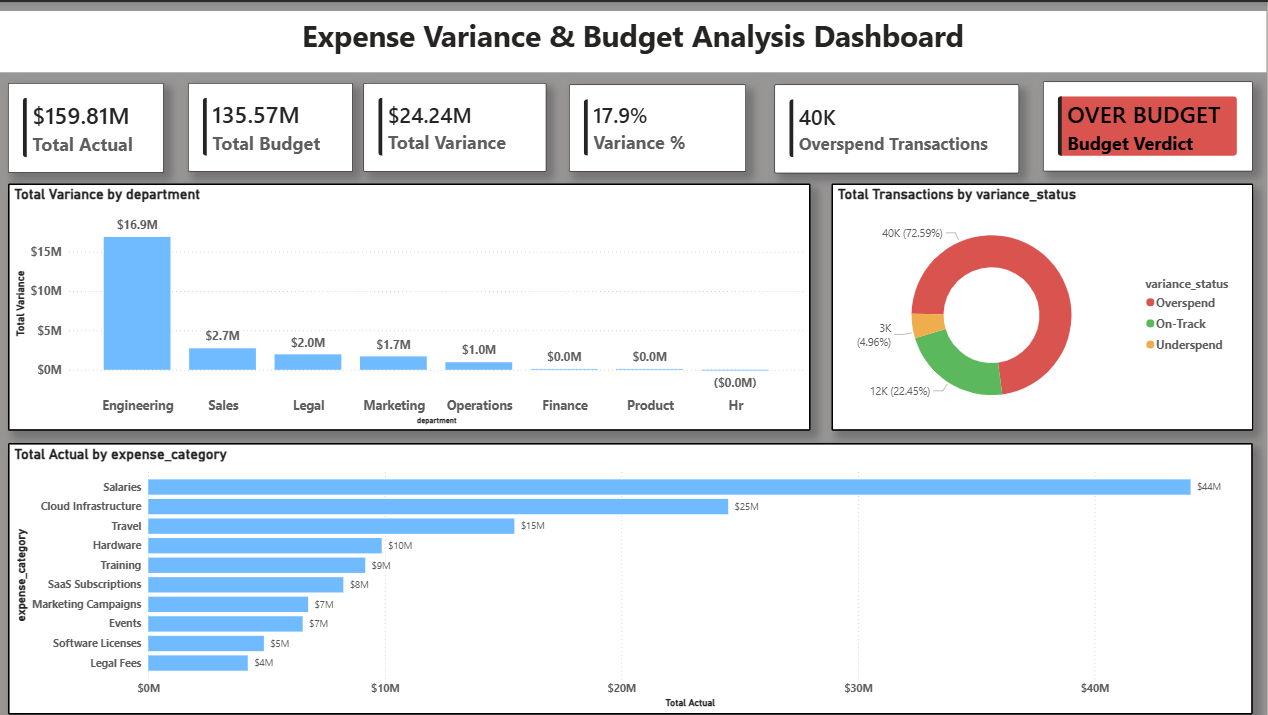

What the dashboard file says about the page in this screenshot:
{"tool":"powerbi","page":{"name":"Page 1","canvas":[1600,900],"ordinal":0},"visuals":[{"type":"textbox","box":[0,11.4,1599.4,79.5],"z":0},{"type":"cardVisual","fields":{"Data":["expense_analysis expense_data.Total Actual"]},"box":[11.4,102.2,244.2,96.5],"z":1000},{"type":"cardVisual","fields":{"Data":["expense_analysis expense_data.Total Budget"]},"box":[300.9,102.2,251.7,96.5],"z":2000},{"type":"cardVisual","fields":{"Data":["expense_analysis expense_data.Total Variance"]},"box":[622.7,104.1,263.1,94.6],"z":3000},{"type":"cardVisual","fields":{"Data":["expense_analysis expense_data.Variance %"]},"box":[923.7,104.1,318,94.6],"z":4000},{"type":"cardVisual","fields":{"Data":["expense_analysis expense_data.Overspend Transactions"]},"box":[1264.4,104.1,318,94.6],"z":5000},{"type":"clusteredBarChart","fields":{"Y":["expense_analysis expense_data.Total Budget"],"Category":["expense_analysis expense_data.department"]},"box":[11.4,215.8,938.8,278.2],"z":6000},{"type":"donutChart","fields":{"Category":["expense_analysis expense_data.variance_status"],"Y":["expense_analysis expense_data.Total Transactions"]},"box":[988,215.8,594.3,278.2],"z":7000},{"type":"clusteredColumnChart","fields":{"Category":["expense_analysis expense_data.expense_category"],"Y":["expense_analysis expense_data.Total Actual"]},"box":[11.4,511,1571,388],"z":8000}]}

Visuals, with their boxes in screenshot pixels (x1, y1, x2, y2), scaled from the page's 1600x900 canvas onto the 1268x715 screenshot:
textbox: detection(0, 9, 1267, 72)
cardVisual - expense_analysis expense_data.Total Actual: detection(9, 81, 203, 158)
cardVisual - expense_analysis expense_data.Total Budget: detection(238, 81, 438, 158)
cardVisual - expense_analysis expense_data.Total Variance: detection(493, 83, 702, 158)
cardVisual - expense_analysis expense_data.Variance %: detection(732, 83, 984, 158)
cardVisual - expense_analysis expense_data.Overspend Transactions: detection(1002, 83, 1254, 158)
clusteredBarChart - expense_analysis expense_data.Total Budget x expense_analysis expense_data.department: detection(9, 171, 753, 392)
donutChart - expense_analysis expense_data.variance_status x expense_analysis expense_data.Total Transactions: detection(783, 171, 1254, 392)
clusteredColumnChart - expense_analysis expense_data.expense_category x expense_analysis expense_data.Total Actual: detection(9, 406, 1254, 714)
